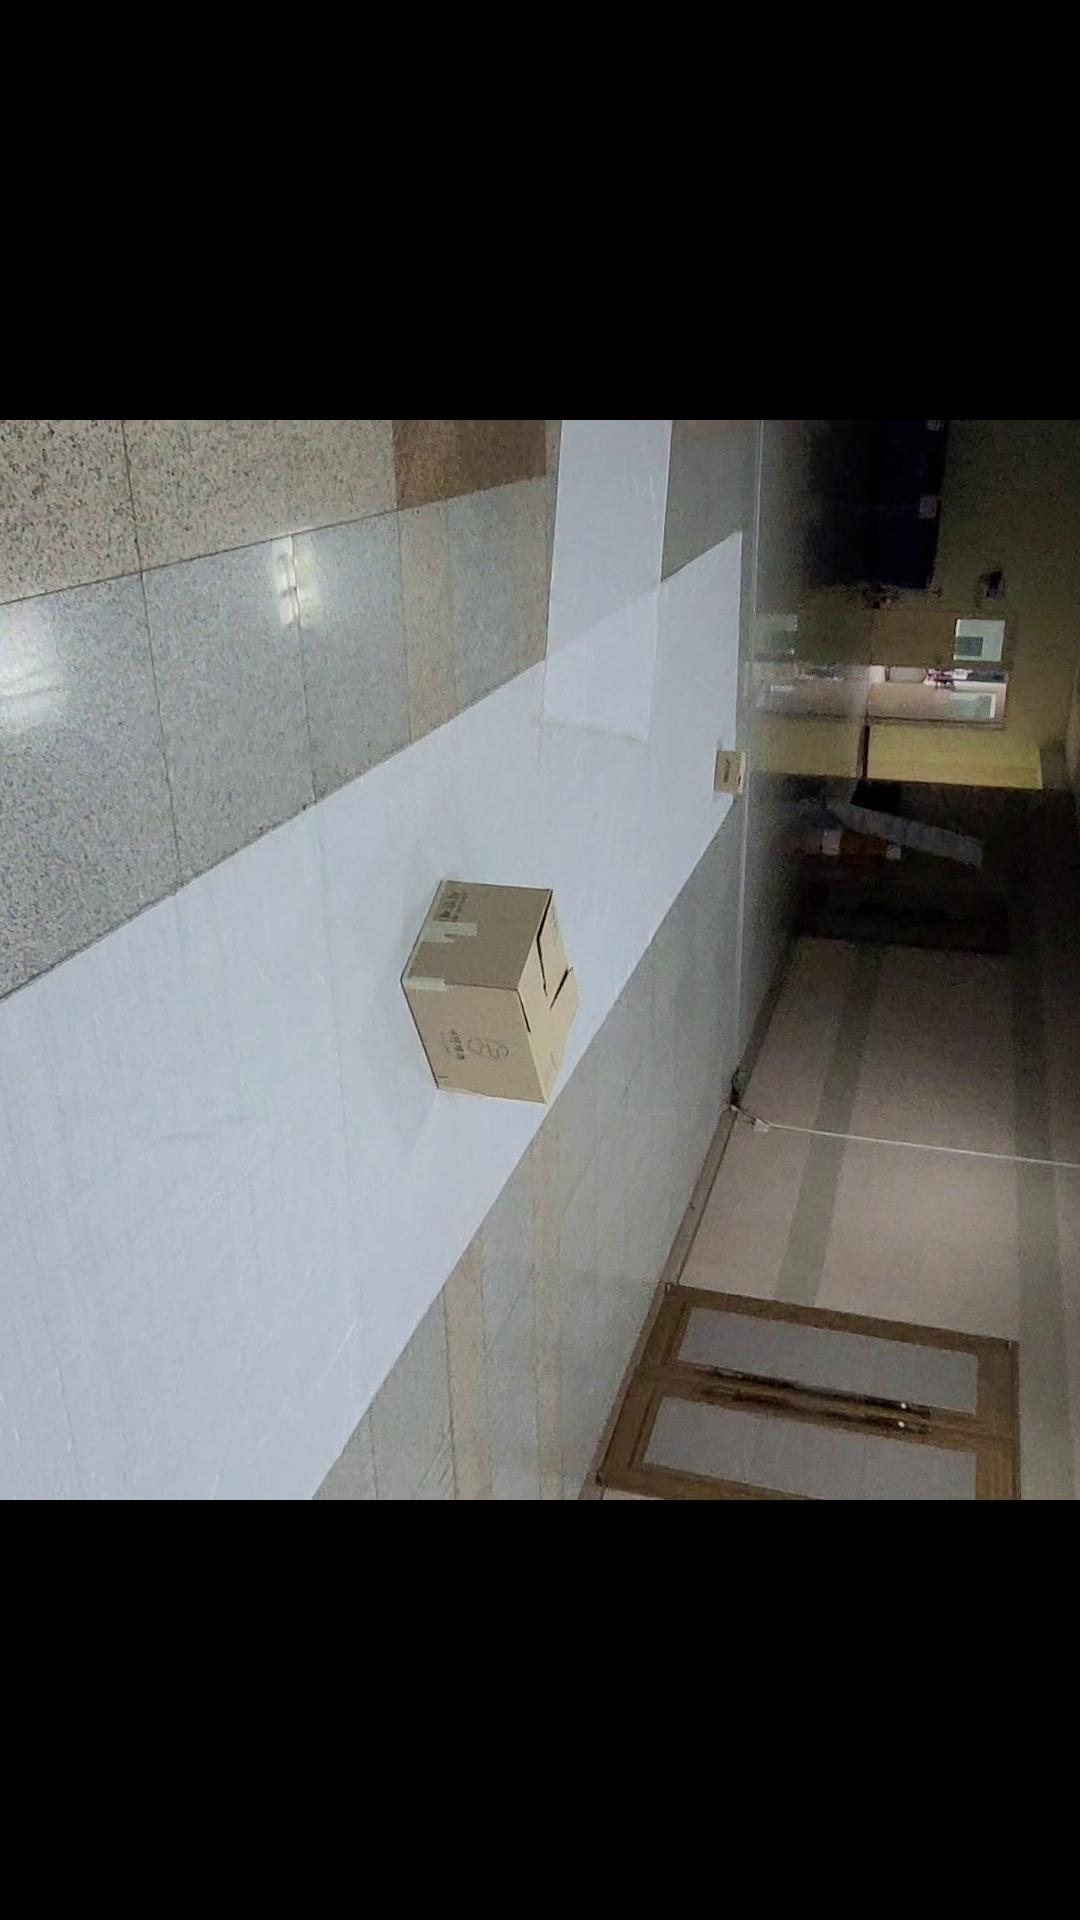Box: (375, 822, 595, 1137)
